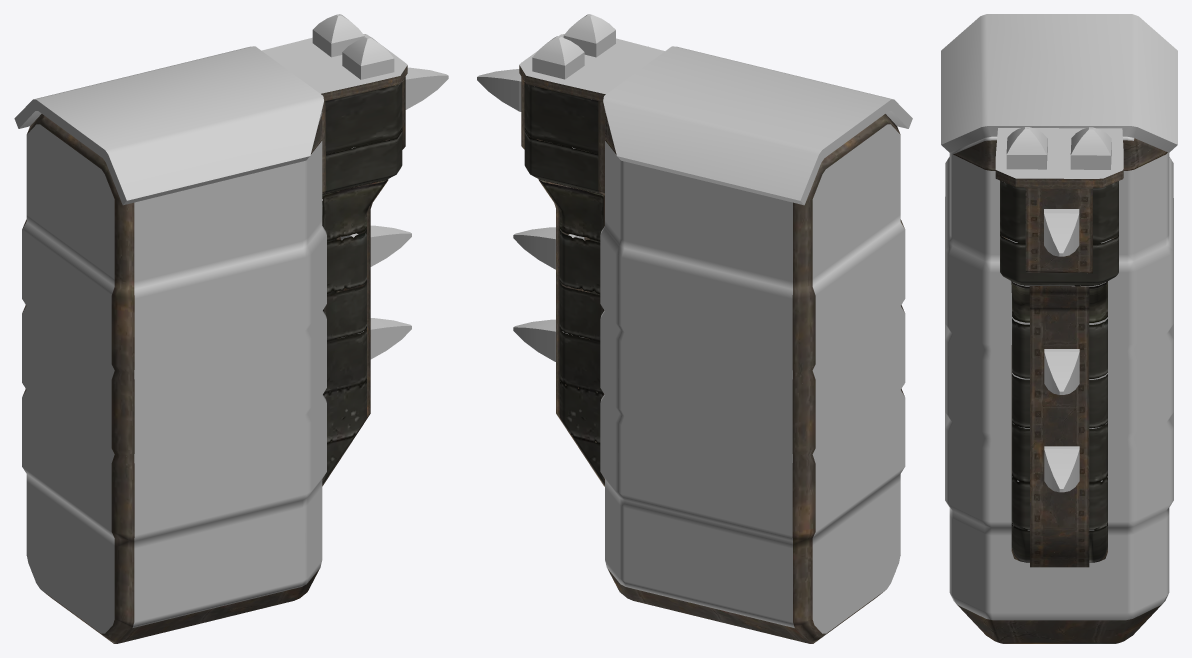
3 renders of one model, left to right at view 1: azimuth 30°, elevation 25°; view 2: azimuth 150°, elevation 25°; view 3: azimuth 270°, elevation 25°, orthographic. The views are drawn at different scales.
Visible parts, largest first — view 1: SM_Greathall_Top_Cap_01_LOD0; view 2: SM_Greathall_Top_Cap_01_LOD0; view 3: SM_Greathall_Top_Cap_01_LOD0.
Boxes of the visible parts, x1,y1,x2,y2 form: SM_Greathall_Top_Cap_01_LOD0: (14,14,448,643); SM_Greathall_Top_Cap_01_LOD0: (477,14,912,643); SM_Greathall_Top_Cap_01_LOD0: (941,14,1177,643).
Size of the model in its own units: 3.68 by 4.87 by 1.88.
